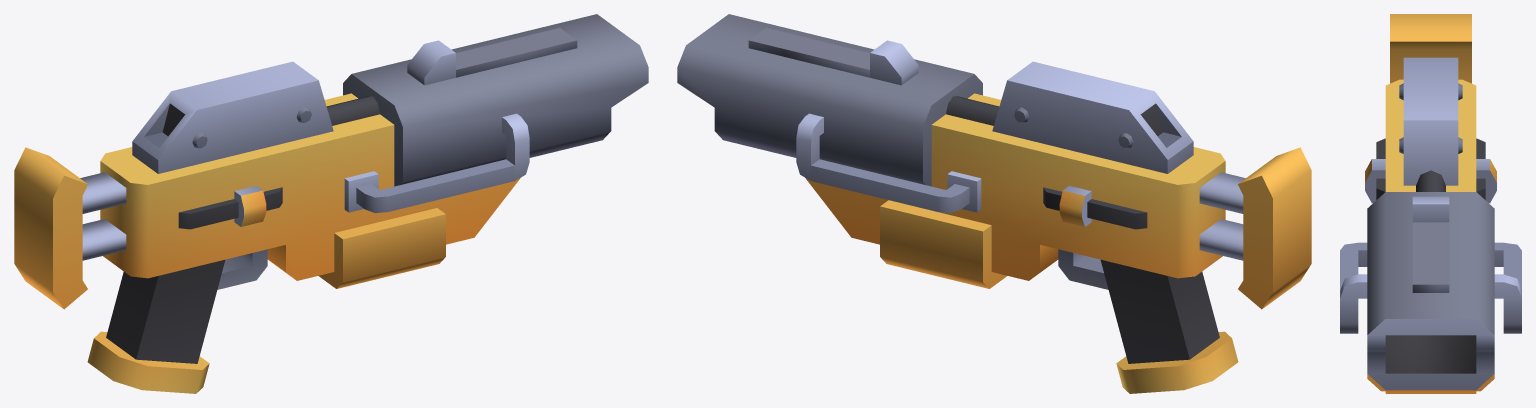
The model's file is Blaster_Plasma.obj.
The picture shows the model from 3 angles, left to right: view 1: azimuth 30°, elevation 25°; view 2: azimuth 150°, elevation 25°; view 3: azimuth 270°, elevation 25°; orthographic projection. The views are drawn at different scales.
Parts seen in each view (by area): view 1: blaster-g; view 2: blaster-g; view 3: blaster-g.
Part boxes in pixels (<box>): blaster-g: <box>14,14,648,393</box>; blaster-g: <box>677,14,1311,393</box>; blaster-g: <box>1340,14,1521,393</box>.
Size of the model in its own units: 0.7859 by 0.3579 by 0.2.
Materials: 1 (1 with a texture image).
